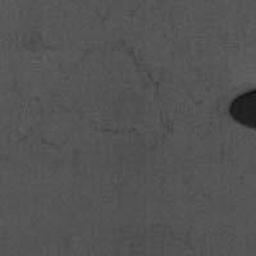Punching: (228, 90, 256, 129)
